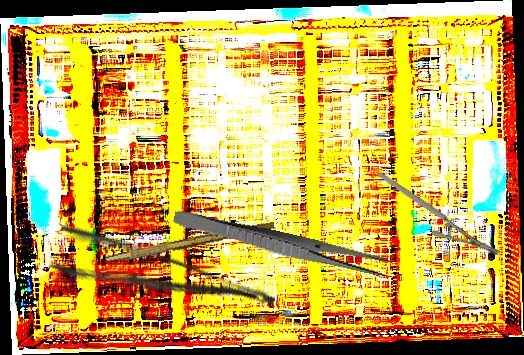Dressing Forceps: (47, 219, 278, 342), (171, 207, 391, 280)
Needle Holder: (377, 143, 501, 284)
Scalpel Handle: (104, 217, 276, 269)
